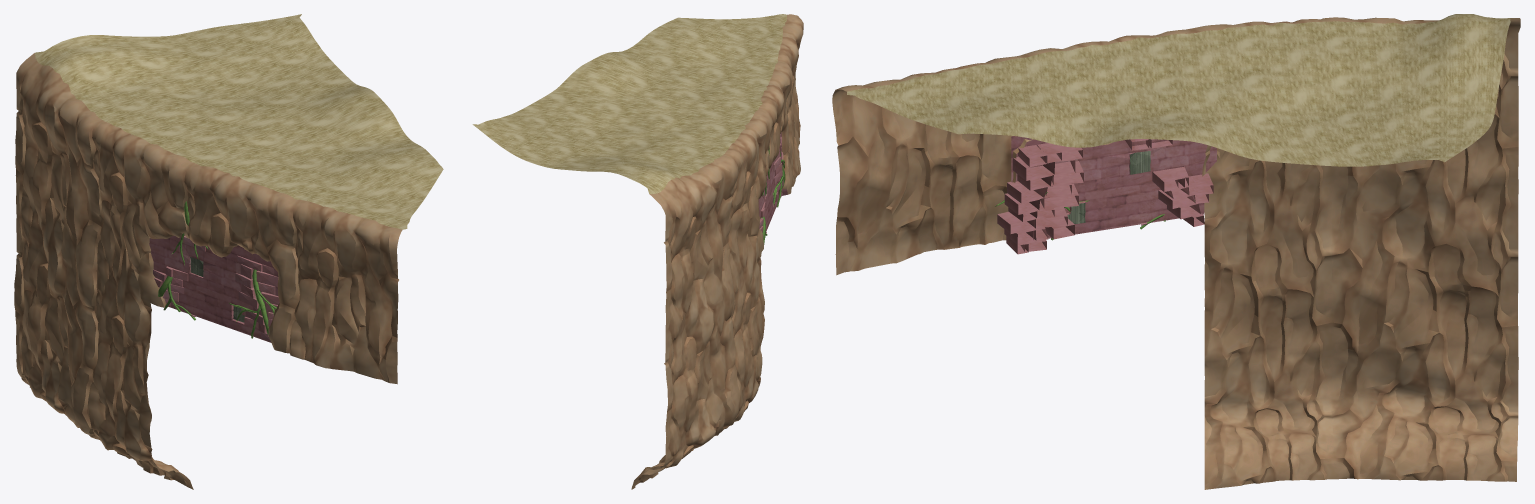
The model's file is SM_ENV_KNFRST_Cliff_Ga.FBX.
3 renders of one model, left to right at view 1: azimuth 30°, elevation 25°; view 2: azimuth 150°, elevation 25°; view 3: azimuth 270°, elevation 25°, orthographic. The views are drawn at different scales.
Parts seen in each view (by area): view 1: SM_ENV_KNFRST_Cliff_Ga; view 2: SM_ENV_KNFRST_Cliff_Ga; view 3: SM_ENV_KNFRST_Cliff_Ga.
Part boxes in pixels (box(x1,y1,x2,y2)): SM_ENV_KNFRST_Cliff_Ga: box(14, 14, 443, 489); SM_ENV_KNFRST_Cliff_Ga: box(472, 14, 803, 489); SM_ENV_KNFRST_Cliff_Ga: box(832, 14, 1520, 489).
Size of the model in its own units: 3230 by 4193 by 5643.
